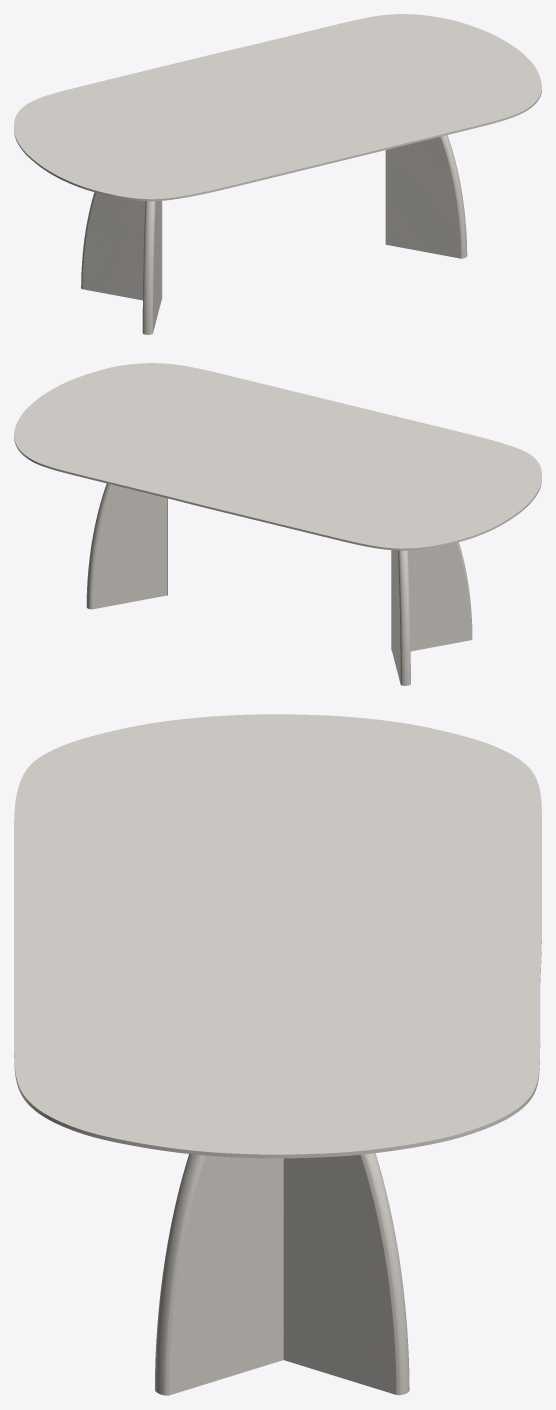
File: pearlwhite_oval_facet_newtable2.glb
3 views of the same model, one above another, from view 1: azimuth 30°, elevation 25°; view 2: azimuth 150°, elevation 25°; view 3: azimuth 270°, elevation 25° (orthographic). The views are drawn at different scales.
Visible parts, largest first — view 1: facet_oval, newtable2_singleright2, newtable2_singleleft1, newtable2_singleright1; view 2: facet_oval, newtable2_singleleft2, newtable2_singleright1, newtable2_singleleft1; view 3: facet_oval, newtable2_singleright2, newtable2_singleleft2.
Part boxes in pixels (x1=…): facet_oval: x1=14, y1=14, x2=541, y2=201; newtable2_singleright2: x1=385, y1=135, x2=467, y2=258; newtable2_singleleft1: x1=81, y1=192, x2=162, y2=300; newtable2_singleright1: x1=142, y1=201, x2=161, y2=334; facet_oval: x1=14, y1=363, x2=541, y2=550; newtable2_singleleft2: x1=86, y1=483, x2=167, y2=609; newtable2_singleright1: x1=391, y1=542, x2=472, y2=651; newtable2_singleleft1: x1=391, y1=550, x2=410, y2=685; facet_oval: x1=14, y1=714, x2=541, y2=1158; newtable2_singleright2: x1=155, y1=1154, x2=283, y2=1395; newtable2_singleleft2: x1=283, y1=1153, x2=409, y2=1395.
Size of the model in its own units: 7.5 by 2.49 by 3.8.
1 material, 1 textured.
